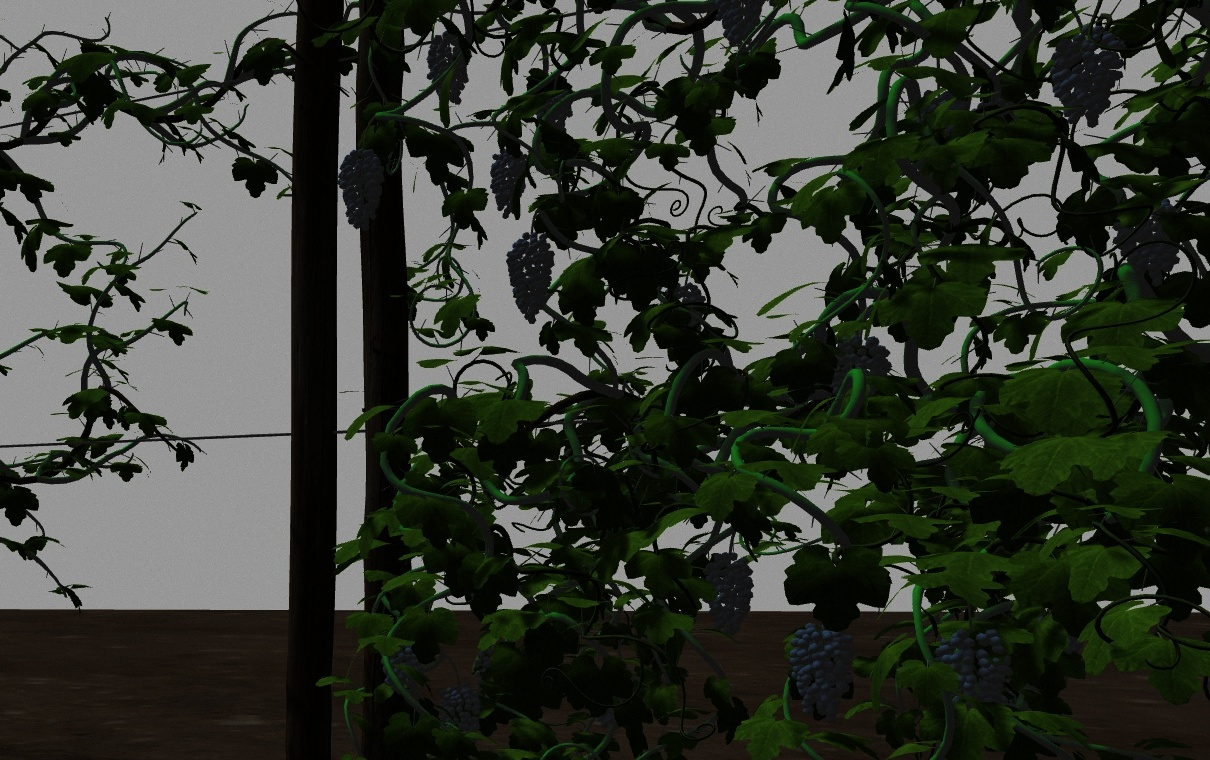grape: (1047, 28, 1124, 123), (786, 623, 856, 722), (1117, 197, 1180, 285), (937, 630, 1010, 702), (701, 550, 756, 632), (337, 144, 386, 232), (506, 234, 553, 325), (425, 32, 472, 106), (485, 152, 528, 224), (834, 335, 891, 386), (442, 685, 482, 738), (717, 6, 763, 49), (382, 648, 420, 696)
